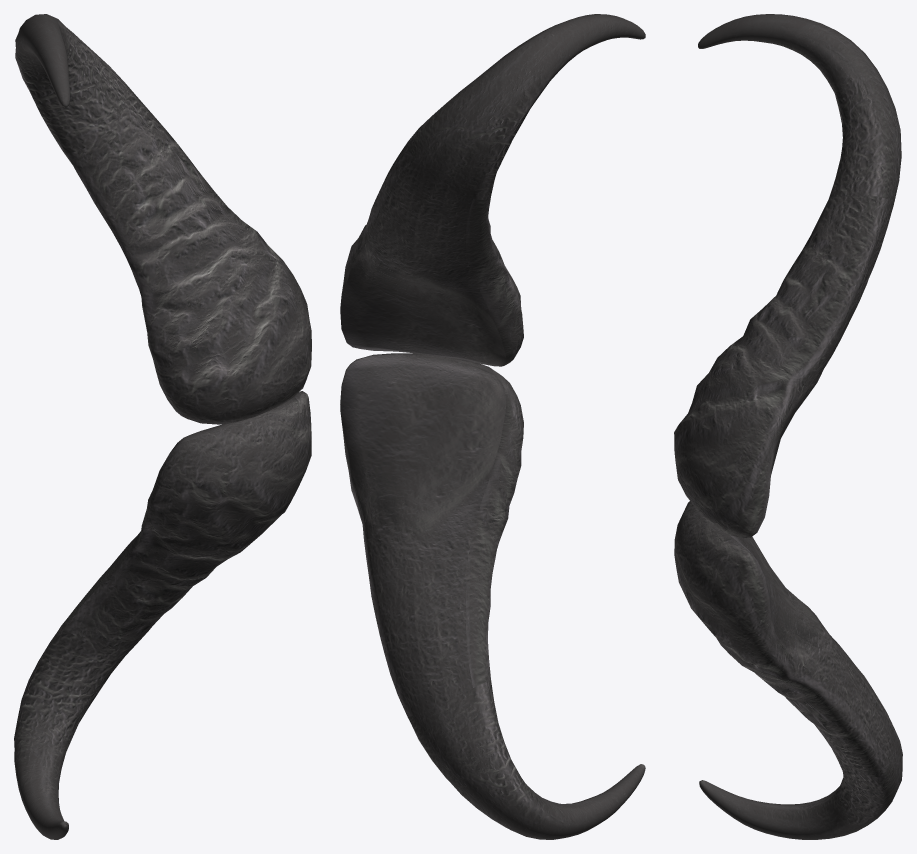
File: buffalo_v01_part_01.obj
3 renders of one model, left to right at view 1: azimuth 30°, elevation 25°; view 2: azimuth 150°, elevation 25°; view 3: azimuth 270°, elevation 25°, orthographic. The views are drawn at different scales.
Visible parts, largest first — view 1: buffalo_v01_part_01; view 2: buffalo_v01_part_01; view 3: buffalo_v01_part_01.
Part boxes in pixels (x1,y1,x2,y2): buffalo_v01_part_01: (14,14,311,839); buffalo_v01_part_01: (340,14,645,839); buffalo_v01_part_01: (674,14,902,839).
Size of the model in its own units: 0.484 by 1.35 by 0.3419.
1 material, 1 textured.
